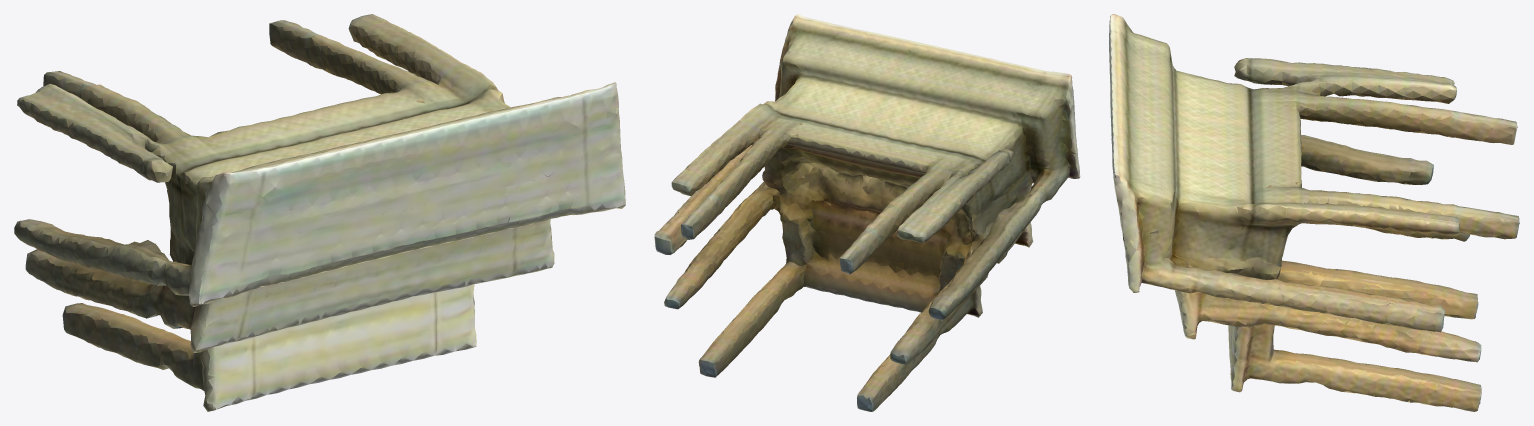
The model's file is spar3d.glb.
3 renders of one model, left to right at view 1: azimuth 30°, elevation 25°; view 2: azimuth 150°, elevation 25°; view 3: azimuth 270°, elevation 25°, orthographic. The views are drawn at different scales.
Parts seen in each view (by area): view 1: world; view 2: world; view 3: world.
Boxes of the visible parts, x1,y1,x2,y2 form: world: (14, 14, 625, 411); world: (654, 14, 1080, 411); world: (1109, 14, 1519, 411).
Bounding box in the file's own units: 0.8818 × 0.6598 × 0.8878.
1 material, 1 textured.
